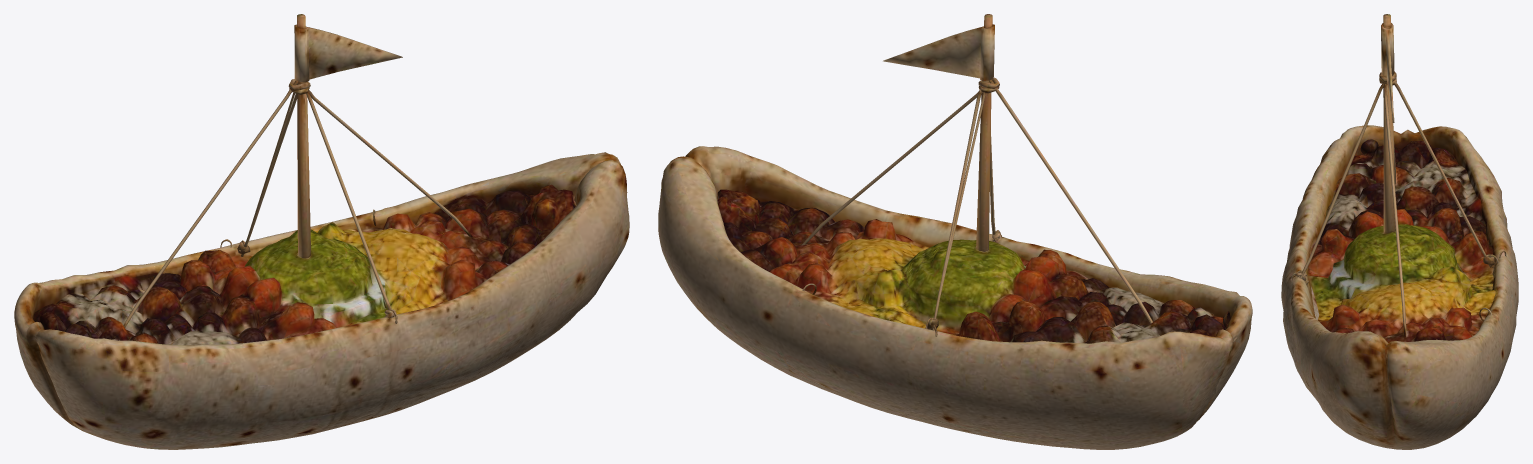
File: burrito.glb
3 renders of one model, left to right at view 1: azimuth 30°, elevation 25°; view 2: azimuth 150°, elevation 25°; view 3: azimuth 270°, elevation 25°, orthographic. The views are drawn at different scales.
Parts seen in each view (by area): view 1: tripo_node_e0b7b7ca-1019-4db9-836a-a927cb3abcf3; view 2: tripo_node_e0b7b7ca-1019-4db9-836a-a927cb3abcf3; view 3: tripo_node_e0b7b7ca-1019-4db9-836a-a927cb3abcf3.
Boxes of the visible parts, <box> form: tripo_node_e0b7b7ca-1019-4db9-836a-a927cb3abcf3: <box>14,14,629,449</box>; tripo_node_e0b7b7ca-1019-4db9-836a-a927cb3abcf3: <box>658,14,1252,449</box>; tripo_node_e0b7b7ca-1019-4db9-836a-a927cb3abcf3: <box>1281,14,1518,449</box>.
Size of the model in its own units: 0.9995 by 0.6665 by 0.3931.
1 material, 1 textured.
